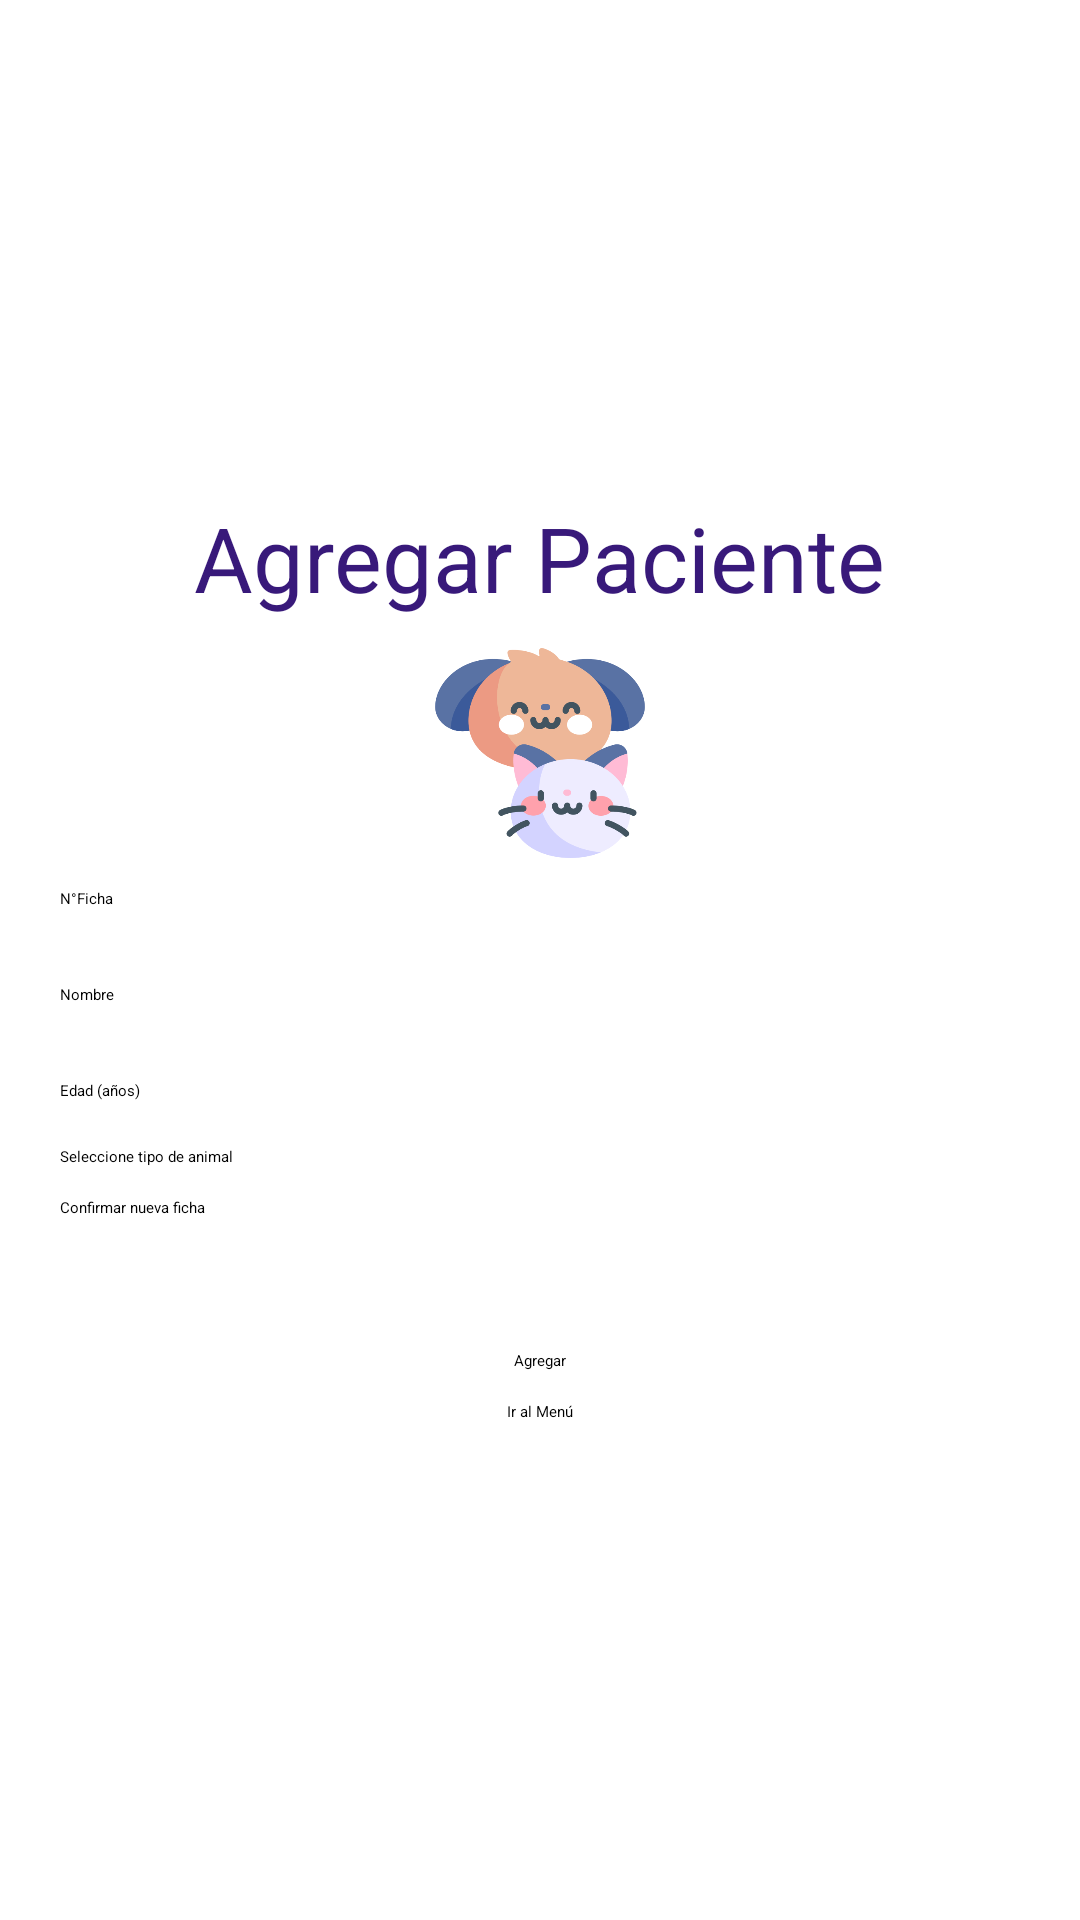

Screen size 1080px×1920px. Icon name, then its box in pixels as (x1, y1, x2, y2):
cat dog: (435, 648, 645, 858)
